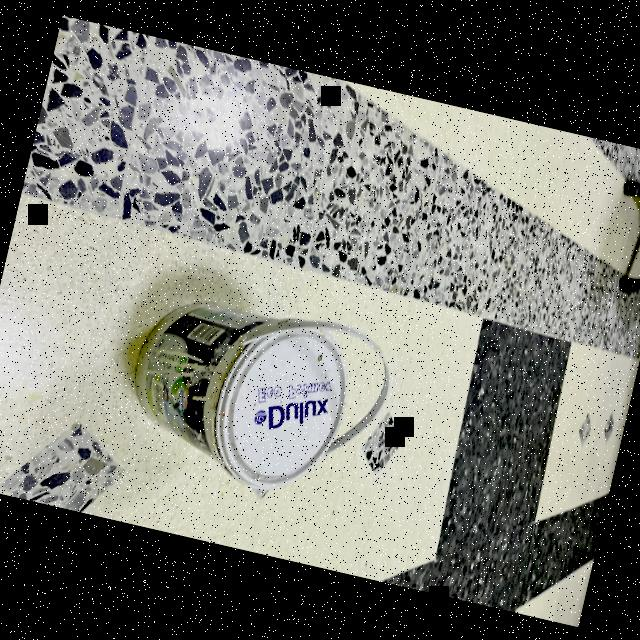paint_bucket: (111, 268, 366, 503)
